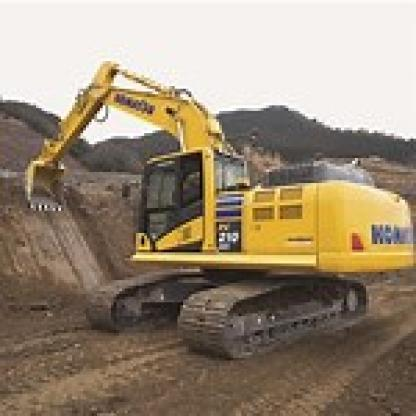excavator: (16, 47, 408, 405)
